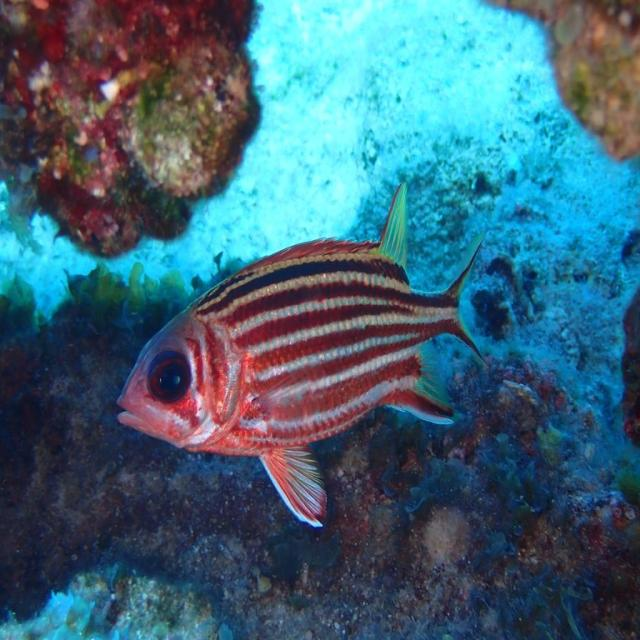Asker Baligi: (110, 160, 501, 541)
